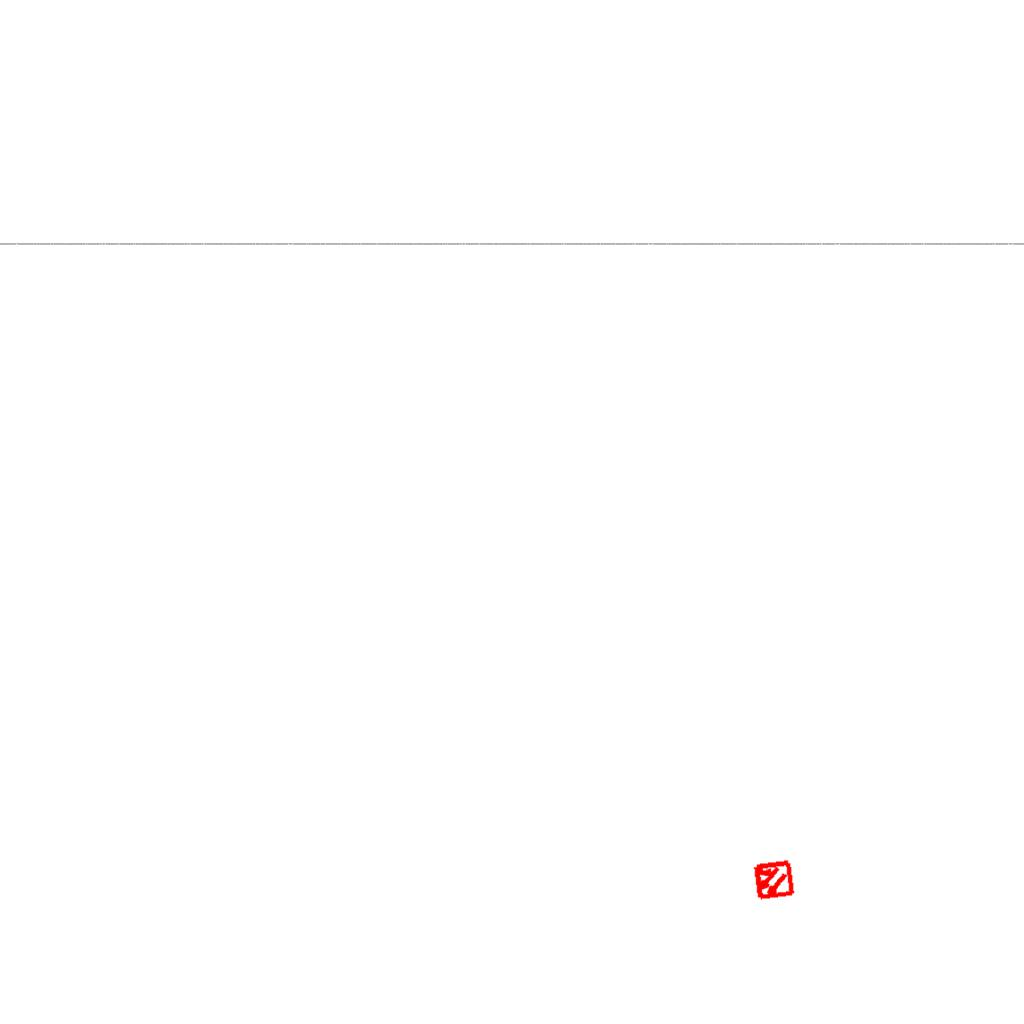OT_Multisensormelder_(Kombination_RMO_WMD): (741, 848, 805, 912)
